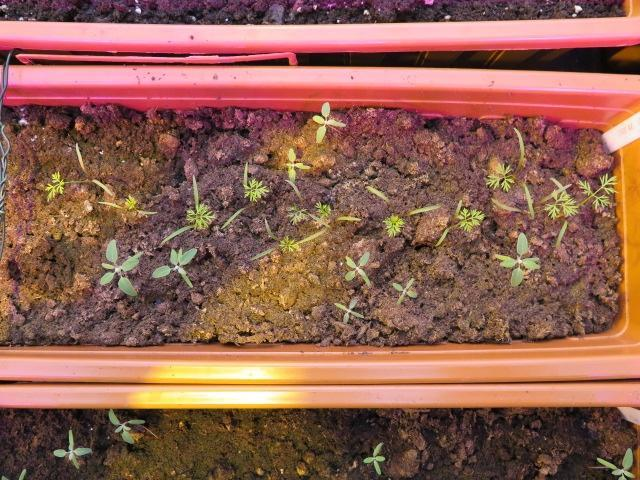weed: (490, 225, 541, 290), (95, 232, 142, 298), (149, 244, 197, 290), (50, 423, 93, 470), (309, 96, 348, 146), (106, 407, 146, 444), (341, 243, 371, 287), (329, 291, 365, 325), (359, 437, 386, 476), (388, 273, 418, 308)
